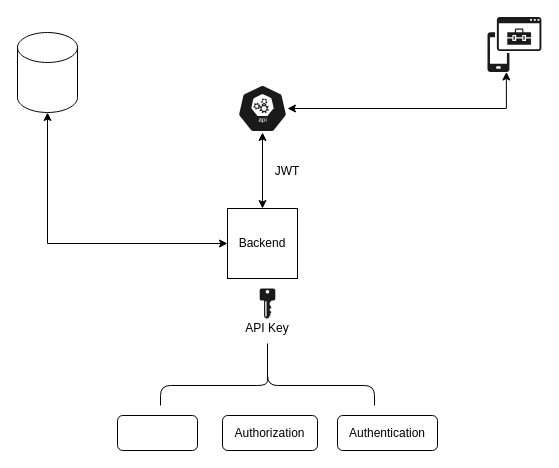
Image size: 559x468. Some labels were removed from this diagram. Here are the shapes that lost their labels. From the top down, the box of each, then its label:
(16, 32, 78, 112): DB
(116, 414, 198, 450): CRUD
